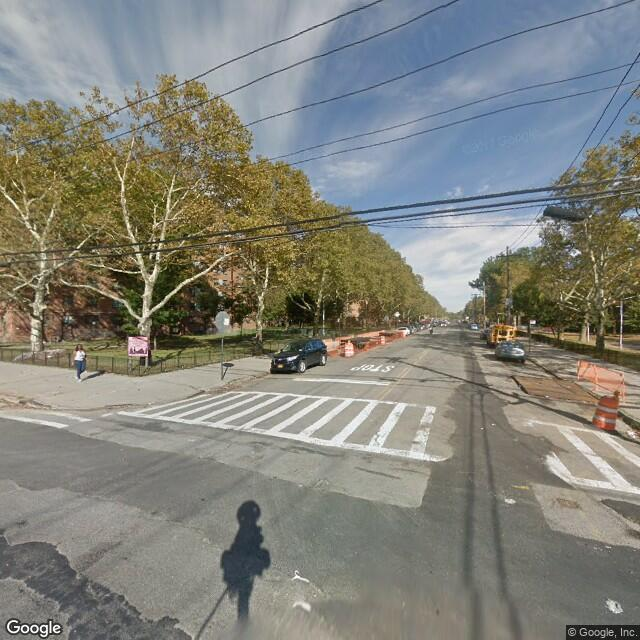litter: (603, 596, 624, 616), (505, 495, 517, 507), (624, 427, 634, 438)
